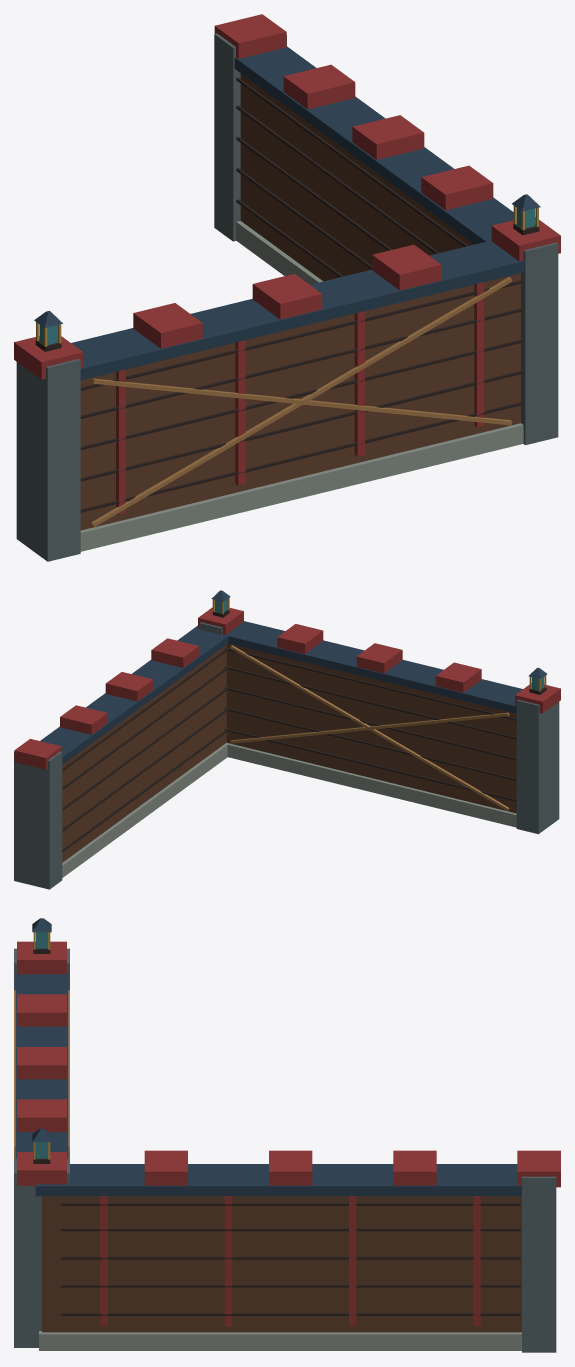
Rendered from PirateCove_BoundaryCorner_Showcase.glb.
3 views of the same model, one above another, from view 1: azimuth 30°, elevation 25°; view 2: azimuth 150°, elevation 25°; view 3: azimuth 270°, elevation 25° (orthographic). The views are drawn at different scales.
Visible parts, largest first — view 1: PirateCove_BoundaryCorner_Showcase; view 2: PirateCove_BoundaryCorner_Showcase; view 3: PirateCove_BoundaryCorner_Showcase.
Boxes of the visible parts, x1,y1,x2,y2 form: PirateCove_BoundaryCorner_Showcase: (14,14,560,561); PirateCove_BoundaryCorner_Showcase: (14,590,560,889); PirateCove_BoundaryCorner_Showcase: (14,918,560,1352).
Size of the model in its own units: 8.8 by 3.76 by 8.8.
